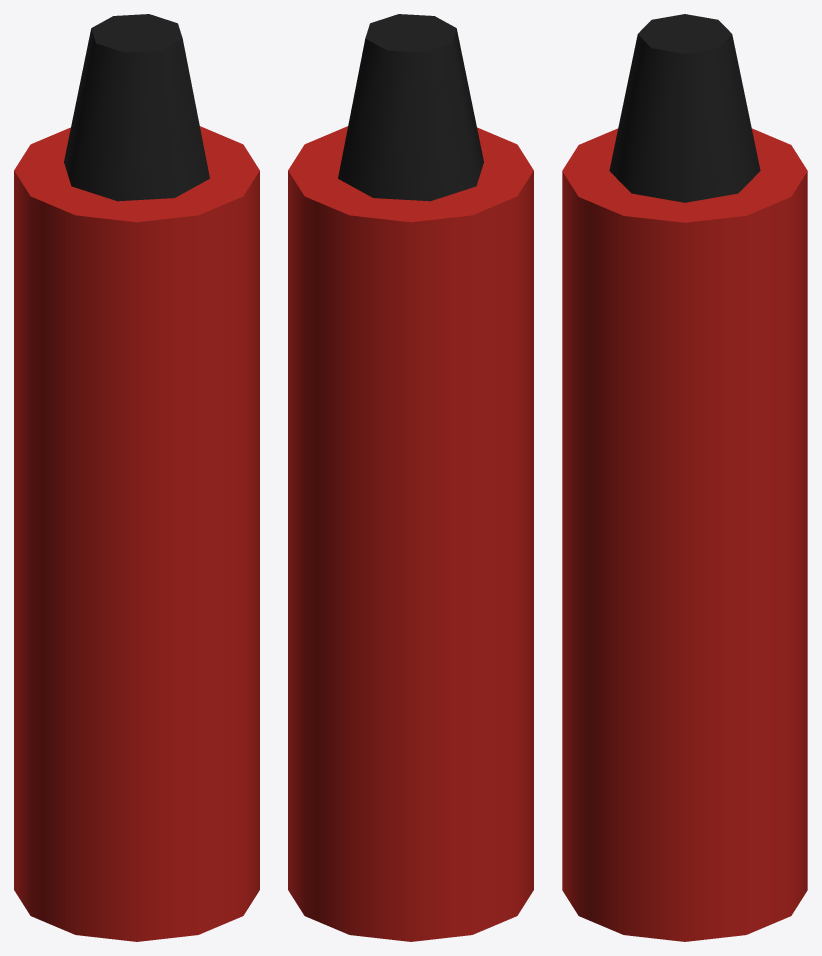
Rendered from extinguisher.obj.
3 views of the same model, side by side, from view 1: azimuth 30°, elevation 25°; view 2: azimuth 150°, elevation 25°; view 3: azimuth 270°, elevation 25° (orthographic).
Parts seen in each view (by area): view 1: extinguisher_0, extinguisher_1; view 2: extinguisher_0, extinguisher_1; view 3: extinguisher_0, extinguisher_1.
Boxes of the visible parts, bbox=[...] form: extinguisher_0: bbox=[14, 126, 259, 941]; extinguisher_1: bbox=[64, 14, 209, 201]; extinguisher_0: bbox=[288, 126, 533, 941]; extinguisher_1: bbox=[338, 14, 483, 201]; extinguisher_0: bbox=[562, 128, 807, 941]; extinguisher_1: bbox=[609, 14, 760, 202].
Bounding box in the file's own units: 0.13 × 0.5 × 0.13.
